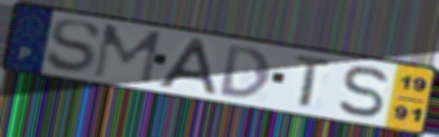A: (154, 36, 220, 98)
D: (218, 42, 273, 101)
M: (90, 22, 165, 87)
S: (44, 18, 103, 74), (335, 65, 391, 120)
T: (292, 53, 336, 111)
